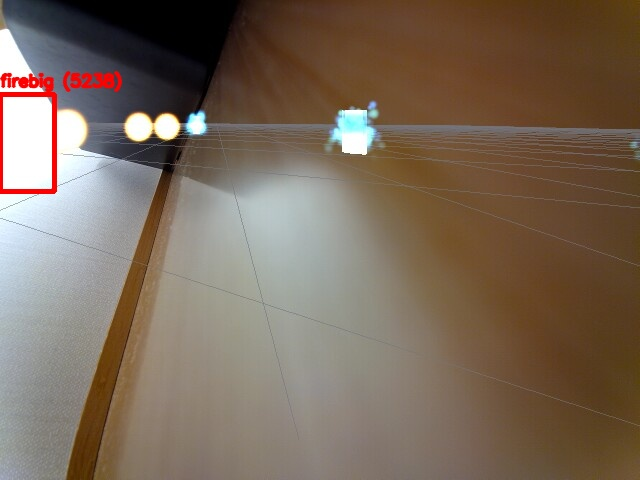firebig: (0, 94, 54, 191)
